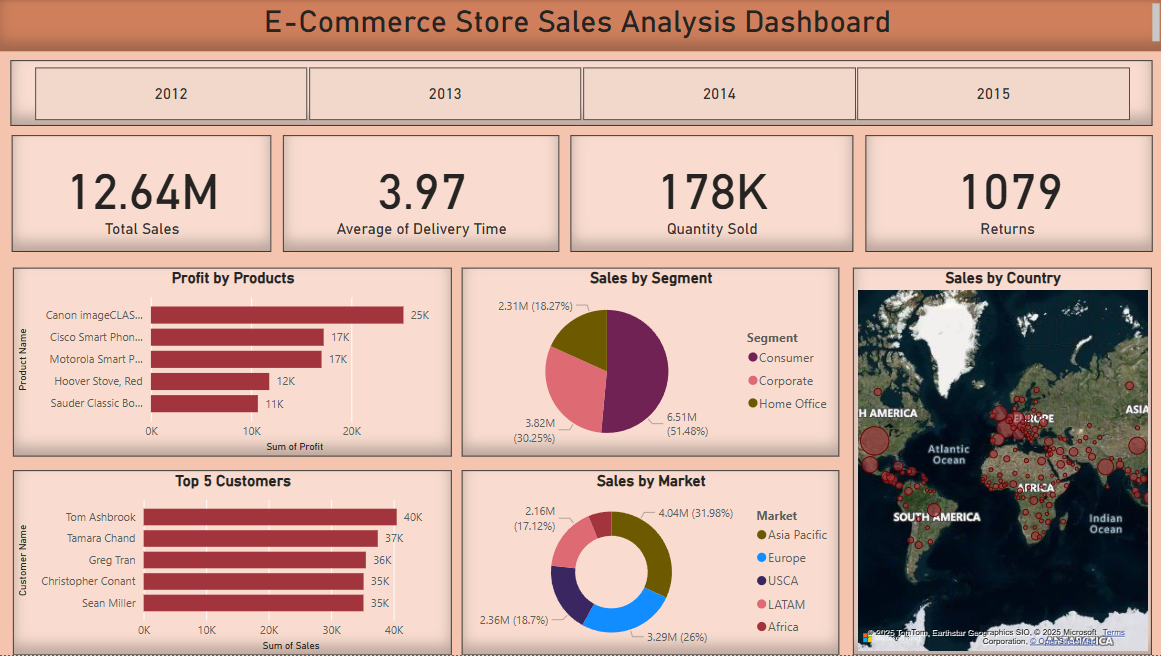

The page's visual inventory and layout, read from the dashboard file:
{"tool":"powerbi","page":{"name":"Page 1","canvas":[1280,720],"ordinal":0},"visuals":[{"type":"textbox","box":[0,0,1280.3,57.6],"z":0},{"type":"card","fields":{"Values":["Orders.Sales"]},"box":[15,150,285,128.3],"z":1000},{"type":"slicer","fields":{"Values":["Orders.year"]},"box":[13.3,66.7,1253.3,71.7],"z":2000},{"type":"card","fields":{"Values":["Orders.Delivery Time"]},"box":[313.3,150,303.3,128.3],"z":3000},{"type":"card","fields":{"Values":["Orders.Quantity"]},"box":[628.3,150,310,128.3],"z":4000},{"type":"card","fields":{"Values":["Returns.Return made"]},"box":[951.7,150,315,128.3],"z":5000},{"type":"clusteredBarChart","title":"Profit by Products","fields":{"Category":["Orders.Product Name"],"Y":["Orders.Profit"]},"box":[16.5,295,481.6,207.2],"z":6000},{"type":"clusteredBarChart","title":"Top  5 Customers","fields":{"Category":["Orders.Customer Name"],"Y":["Orders.Sales"]},"box":[16.5,517.3,481.6,203.1],"z":7000},{"type":"pieChart","title":"Sales by Segment","fields":{"Category":["Orders.Segment"],"Y":["Orders.Sales"]},"box":[509.1,295,414.4,207.2],"z":8000},{"type":"donutChart","title":"Sales by Market","fields":{"Category":["Orders.Market"],"Y":["Orders.Sales"]},"box":[509.1,517.3,414.4,203.1],"z":9000},{"type":"map","title":" Sales by Country ","fields":{"Category":["Orders.Country"],"Size":["Orders.Sales"]},"box":[938.6,295,328,425.4],"z":10000}]}

Visuals, with their boxes in screenshot pixels (x1, y1, x2, y2), scaled from the page's 1280x720 canvas onto the 1161x656 screenshot:
textbox: select_region(0, 0, 1160, 52)
card - Orders.Sales: select_region(14, 137, 272, 254)
slicer - Orders.year: select_region(12, 61, 1149, 126)
card - Orders.Delivery Time: select_region(284, 137, 559, 254)
card - Orders.Quantity: select_region(570, 137, 851, 254)
card - Returns.Return made: select_region(863, 137, 1149, 254)
"Profit by Products" clusteredBarChart: select_region(15, 269, 452, 458)
"Top  5 Customers" clusteredBarChart: select_region(15, 471, 452, 655)
"Sales by Segment" pieChart: select_region(462, 269, 838, 458)
"Sales by Market" donutChart: select_region(462, 471, 838, 655)
" Sales by Country " map: select_region(851, 269, 1149, 655)
